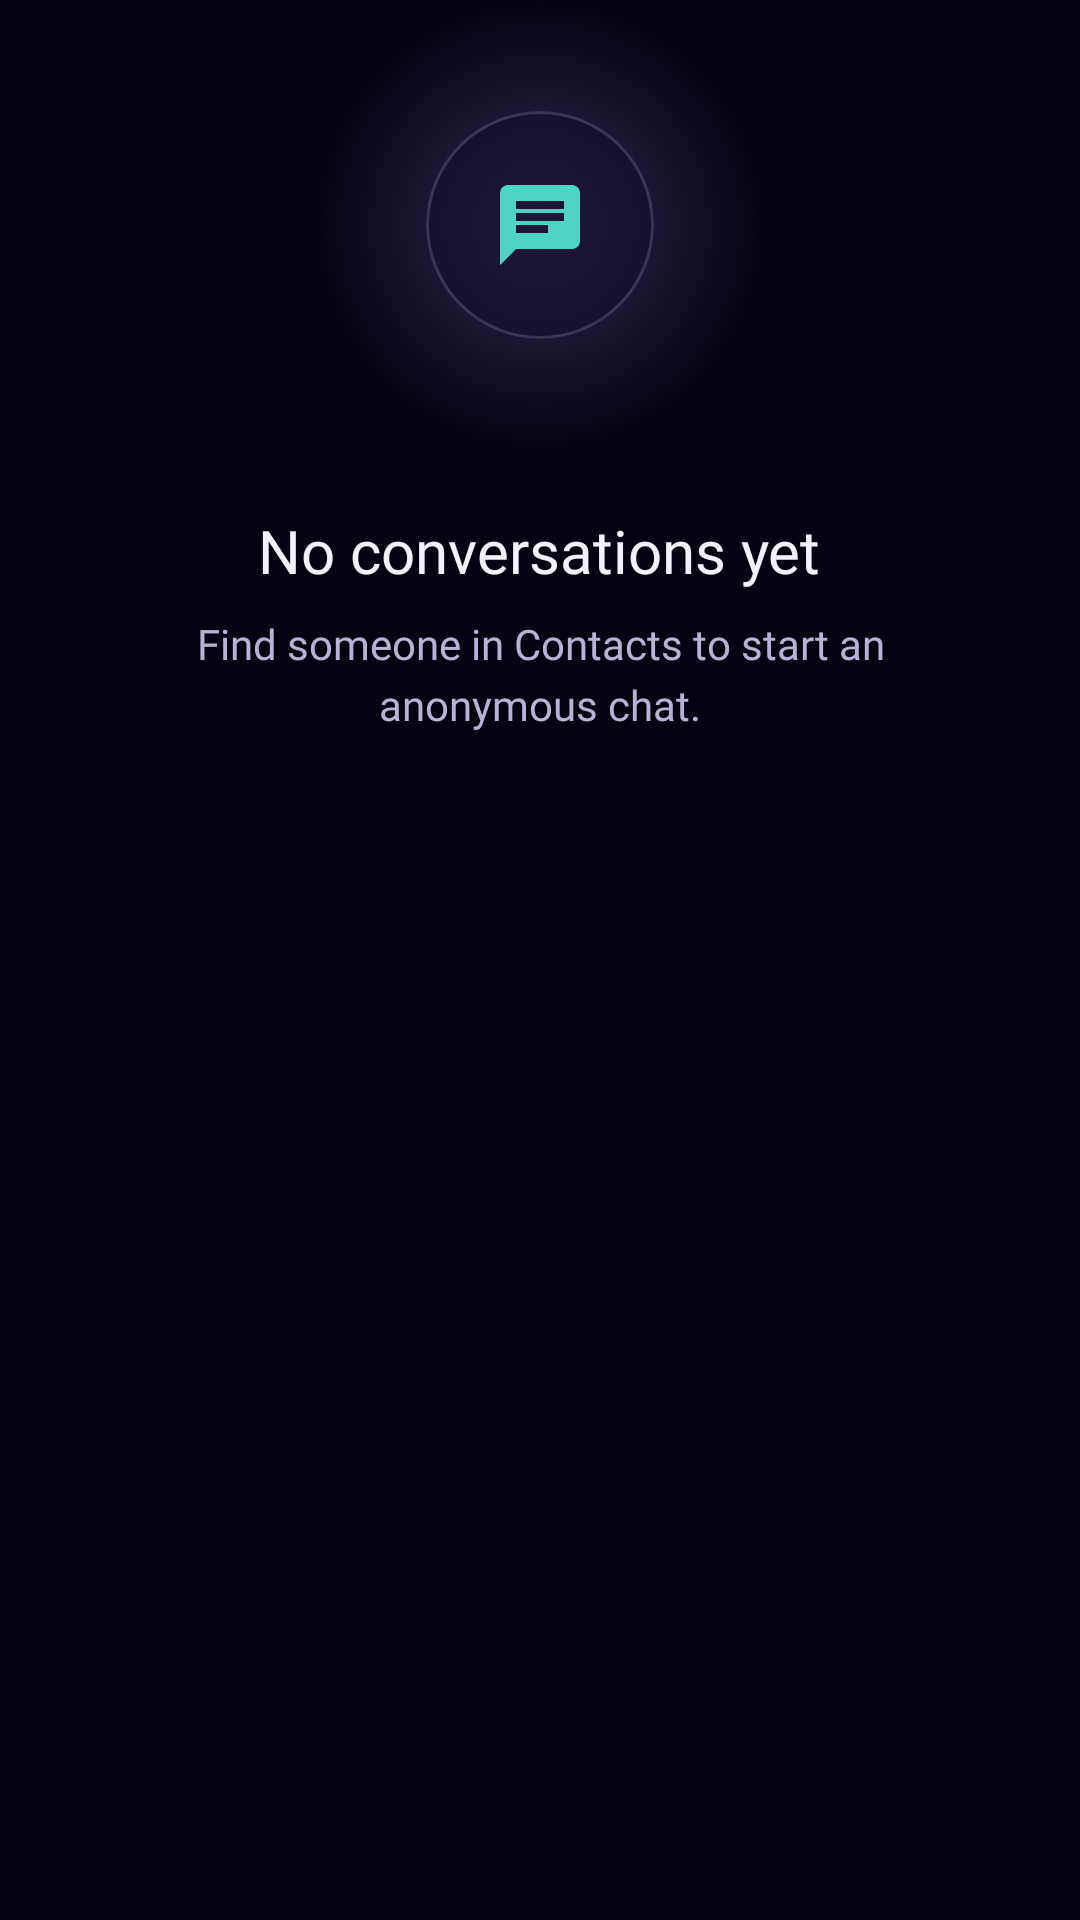

Icon click points for this 1080*1920 phone screenshot, format point (x, y):
chat: point (540, 225)
